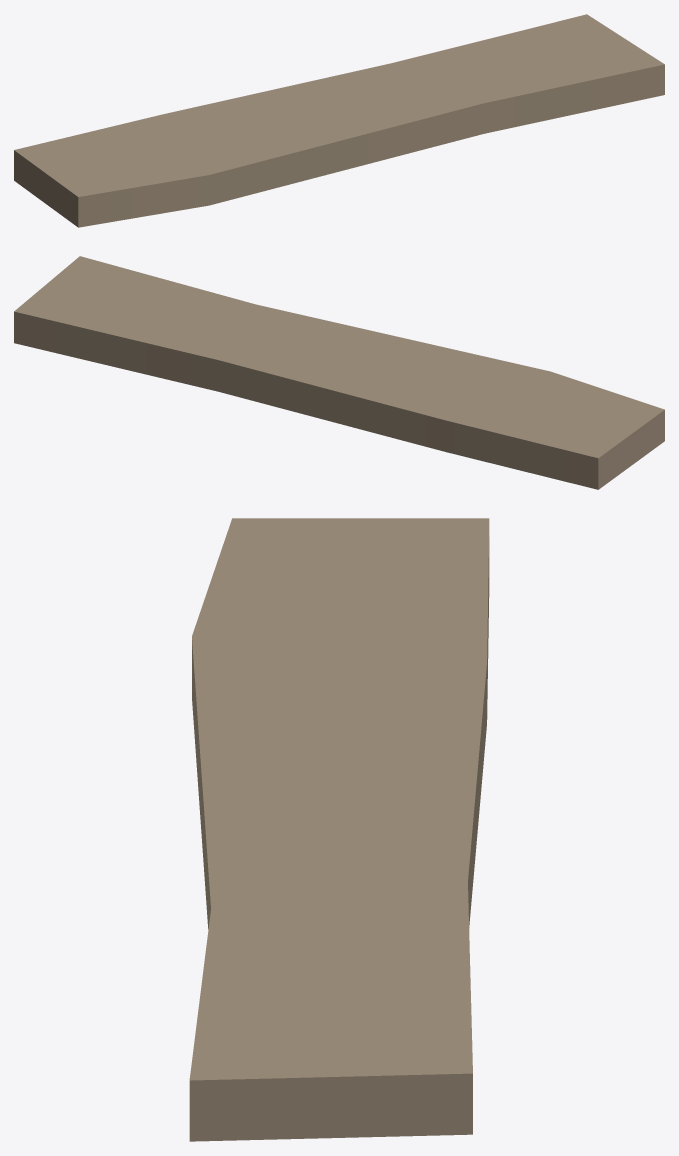
The model's file is Planche_3.fbx.
The picture shows the model from 3 angles, top to bottom: view 1: azimuth 30°, elevation 25°; view 2: azimuth 150°, elevation 25°; view 3: azimuth 270°, elevation 25°; orthographic projection. The views are drawn at different scales.
Visible parts, largest first — view 1: Planche; view 2: Planche; view 3: Planche.
Boxes of the visible parts, x1,y1,x2,y2 form: Planche: (14,14,664,227); Planche: (14,256,664,489); Planche: (189,518,489,1141).
Bounding box in the file's own units: 82.54 × 4.18 × 18.61.
